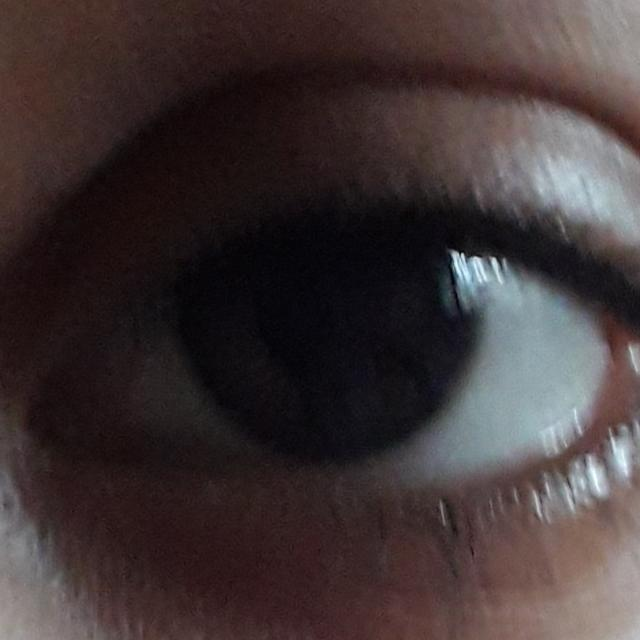eye: (69, 221, 617, 503)
iris: (185, 227, 484, 481)
